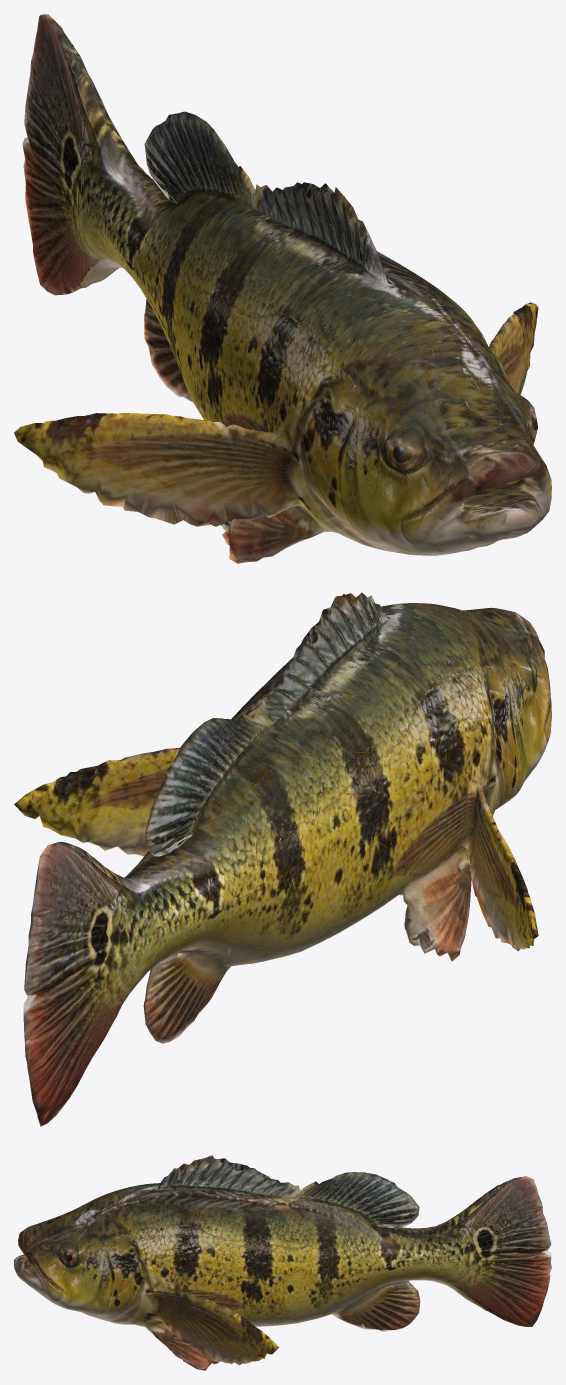
Rendered from fish_peacock.glb.
3 views of the same model, one above another, from view 1: azimuth 30°, elevation 25°; view 2: azimuth 150°, elevation 25°; view 3: azimuth 270°, elevation 25° (orthographic). The views are drawn at different scales.
Visible parts, largest first — view 1: geometry_0; view 2: geometry_0; view 3: geometry_0.
Boxes of the visible parts, x1=… form: geometry_0: x1=14, y1=14, x2=551, y2=563; geometry_0: x1=14, y1=592, x2=551, y2=1126; geometry_0: x1=14, y1=1155, x2=551, y2=1370.
Size of the model in its own units: 1.2 by 0.7489 by 1.96.
1 material, 1 textured.
